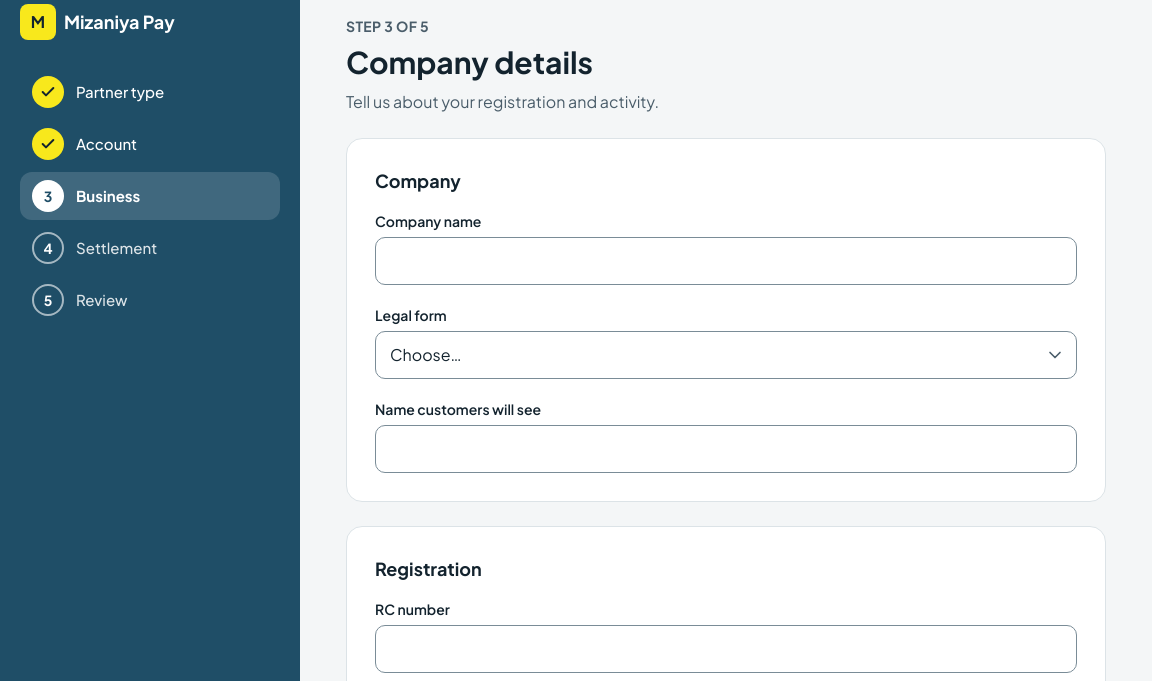
Test case: draft & resume › keeps typed values when going Back and returning
This screenshot has width=1152, height=681.
Expected: the heading "Company details" is shown, [346,43,593,81]
Type "Benali Distribution" into the field with id "f-companyName".
click(726, 260); type("Benali Distribution")  # box [375,236,1077,284]
(page scrolled)
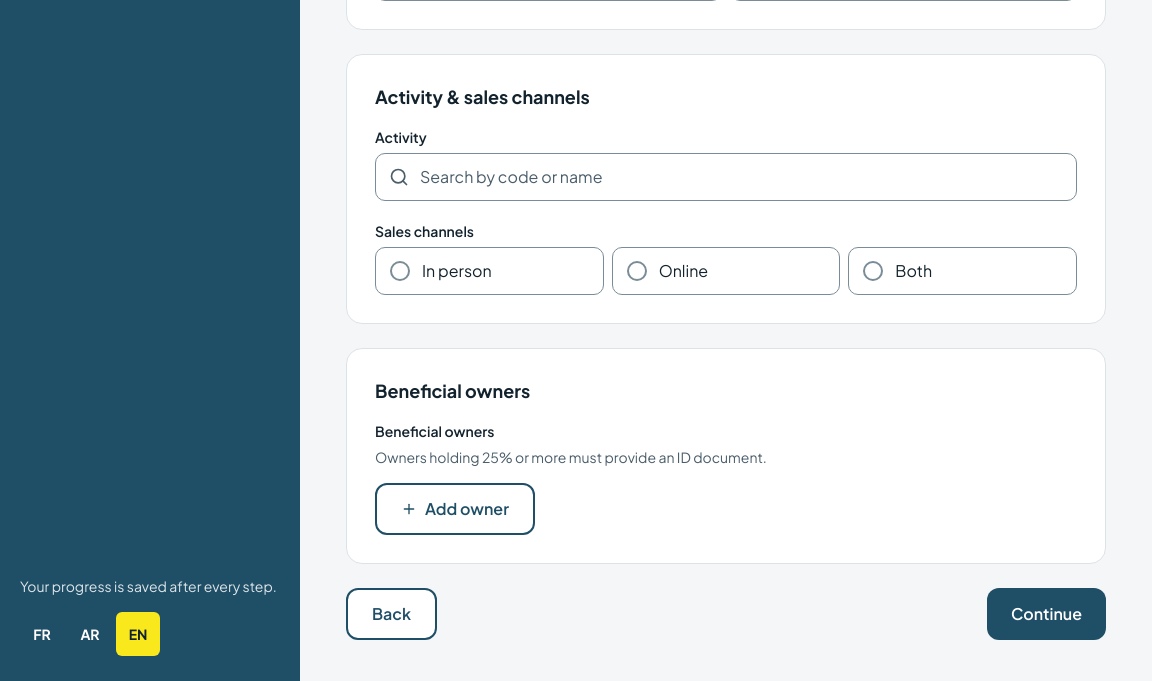
Click the button "Back".
click(392, 614)  # box [346,588,437,640]
(page scrolled)
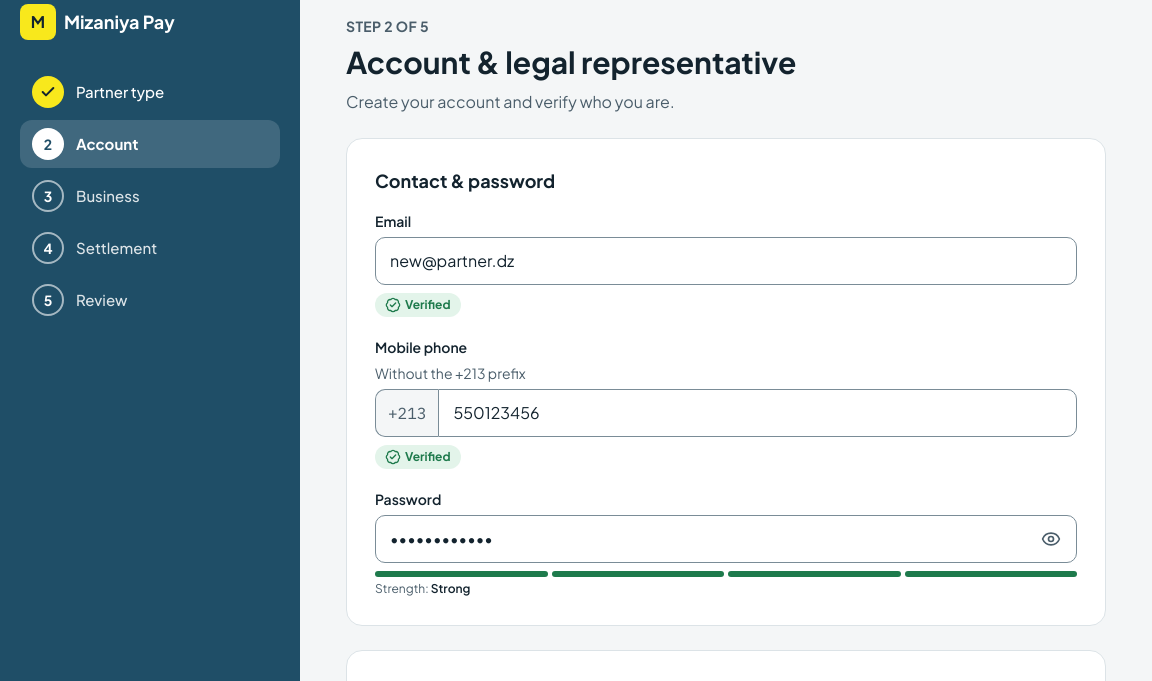
Expected: the heading "Account & legal representative" is shown, [346,43,796,81]
Click the link "3 Business".
click(86, 196)  # box [32,180,140,212]
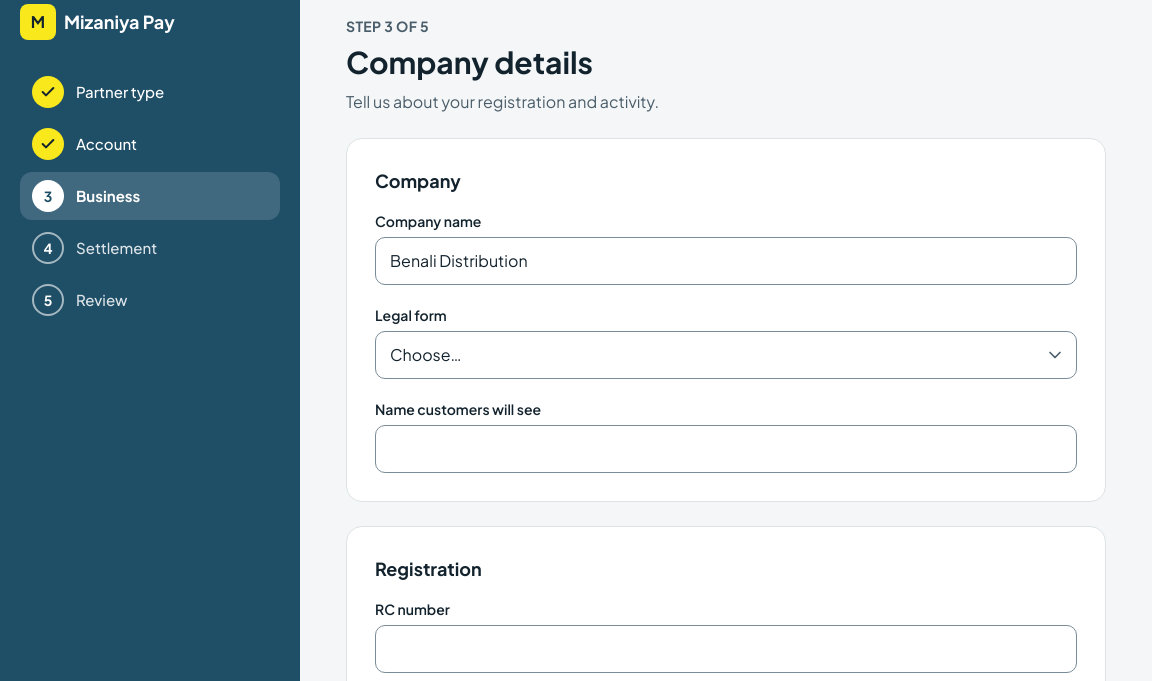
Expected: the heading "Company details" is shown, [346,43,593,81]
Expected: the field with id "f-companyName" holds "Benali Distribution", [375,236,1077,284]
